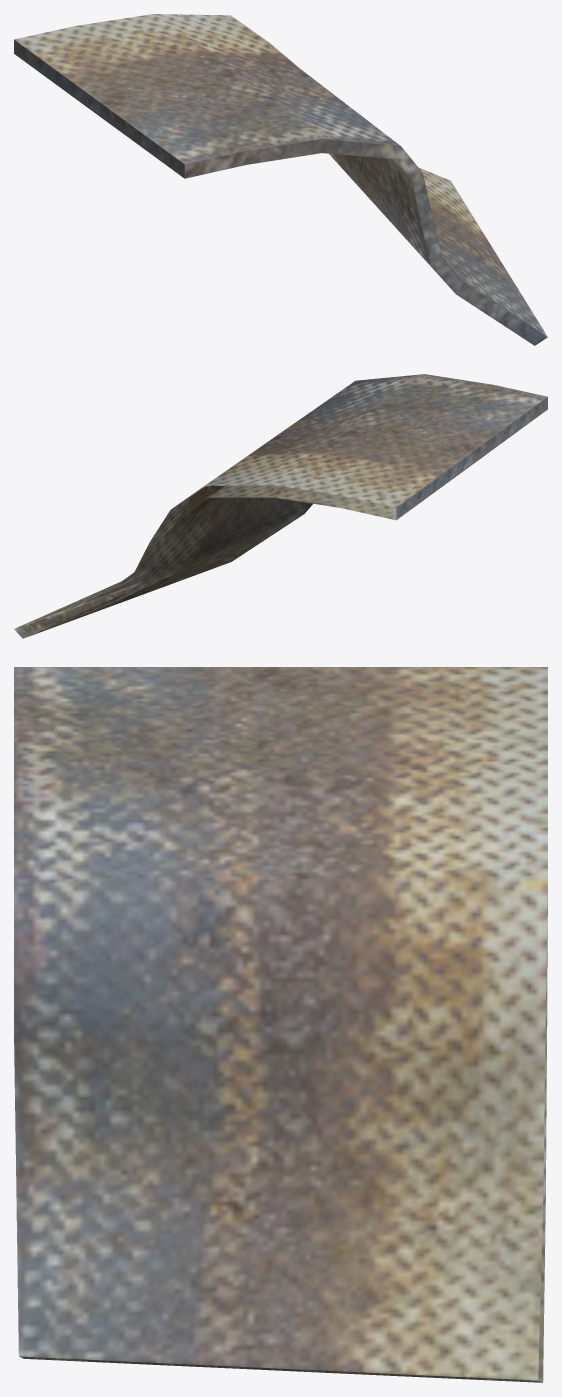
File: BrokenFloor_01.FBX
3 views of the same model, one above another, from view 1: azimuth 30°, elevation 25°; view 2: azimuth 150°, elevation 25°; view 3: azimuth 270°, elevation 25° (orthographic). The views are drawn at different scales.
Visible parts, largest first — view 1: BrokenFloor_01; view 2: BrokenFloor_01; view 3: BrokenFloor_01.
Boxes of the visible parts, bbox=[...] form: BrokenFloor_01: bbox=[14, 14, 547, 345]; BrokenFloor_01: bbox=[14, 374, 547, 638]; BrokenFloor_01: bbox=[14, 667, 547, 1382].
Bounding box in the file's own units: 298 × 177 × 203.
